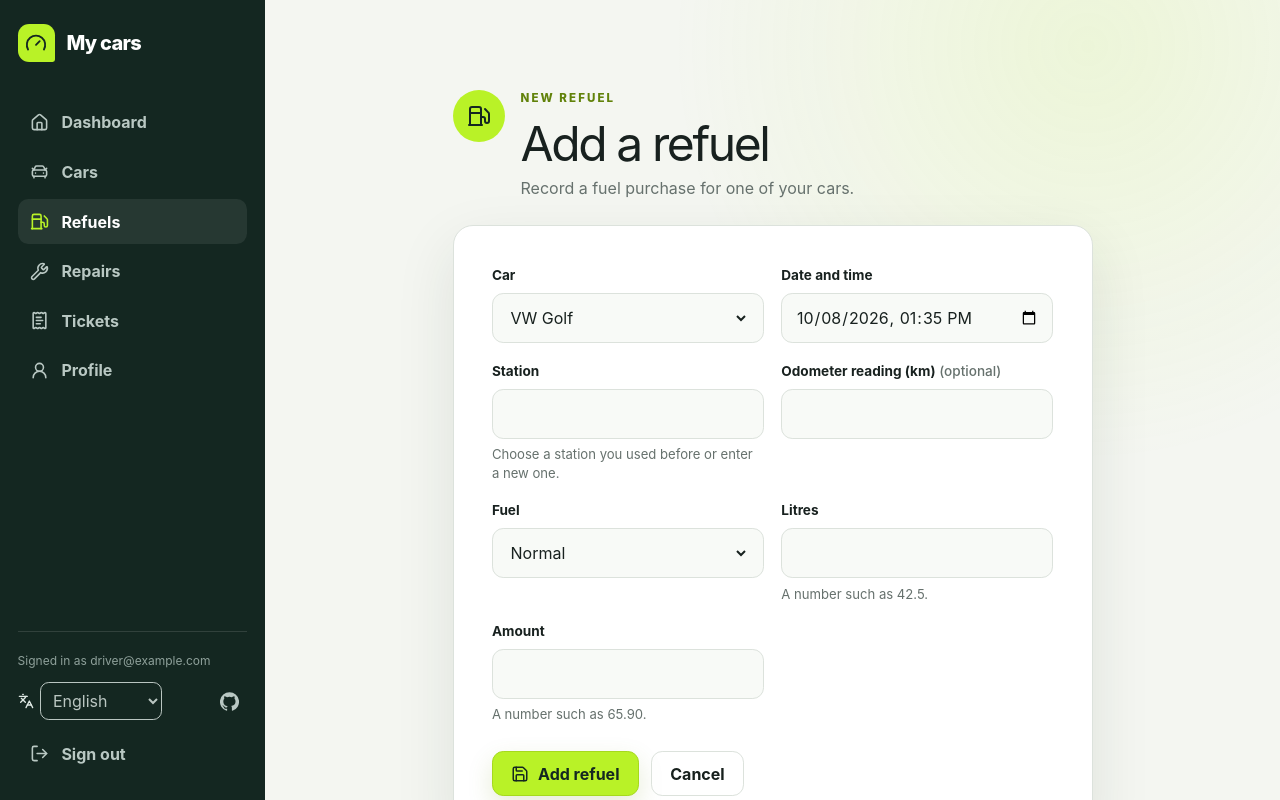
it: refuels › creates a refuel and returns to the list
Select "VW Golf" in the dropdown labelled "Car" at (628, 318), box [506,294,749,342]
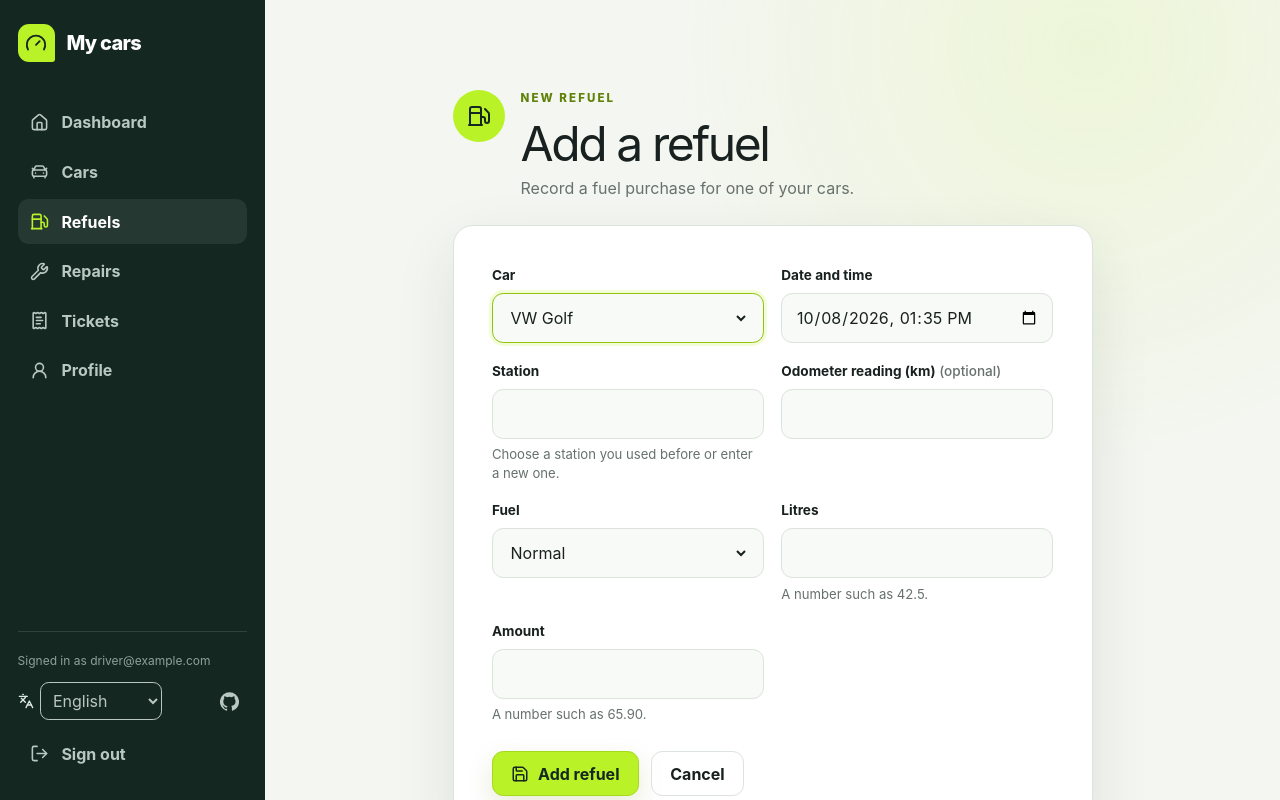
Type "Fuel" into the field labelled "Station".
click(628, 414); type("Fuel")  # box [506,390,749,438]
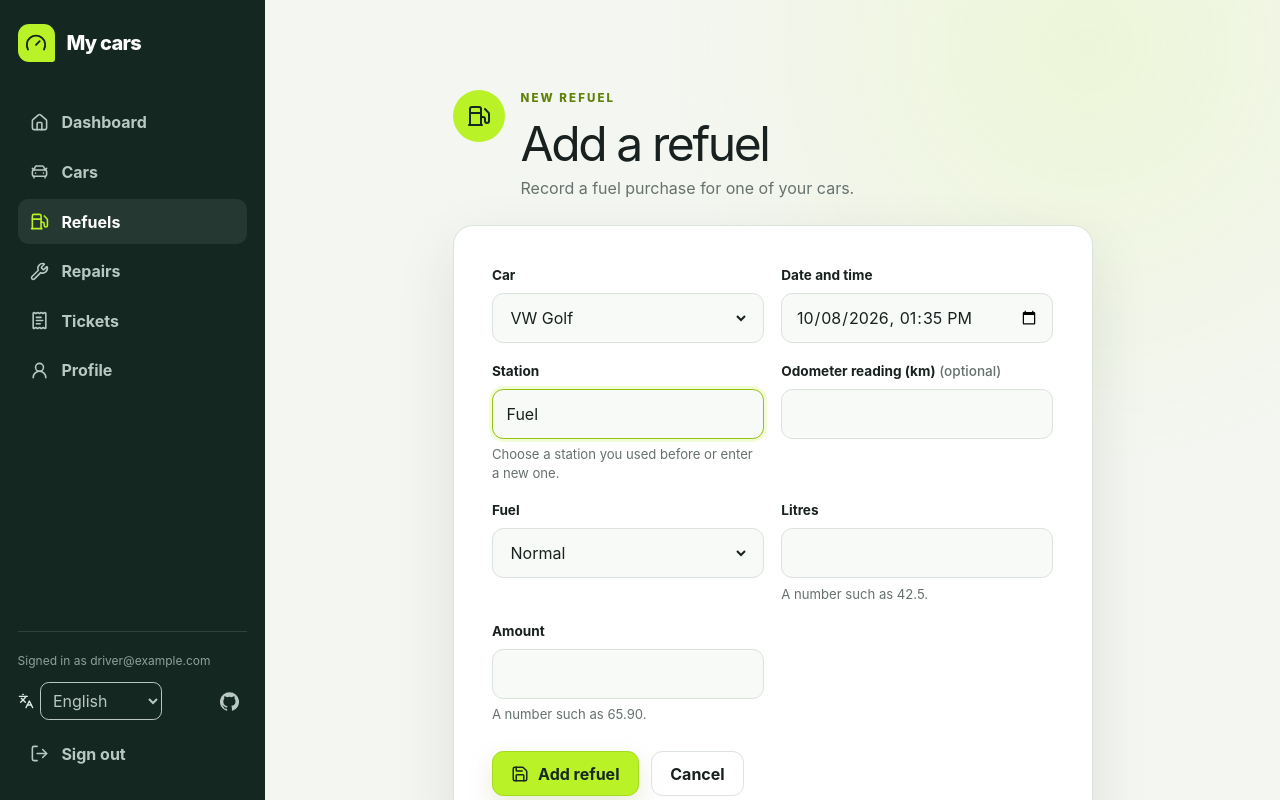
Type "40" into the field labelled "Litres".
click(917, 553); type("40")  # box [796,529,1038,577]
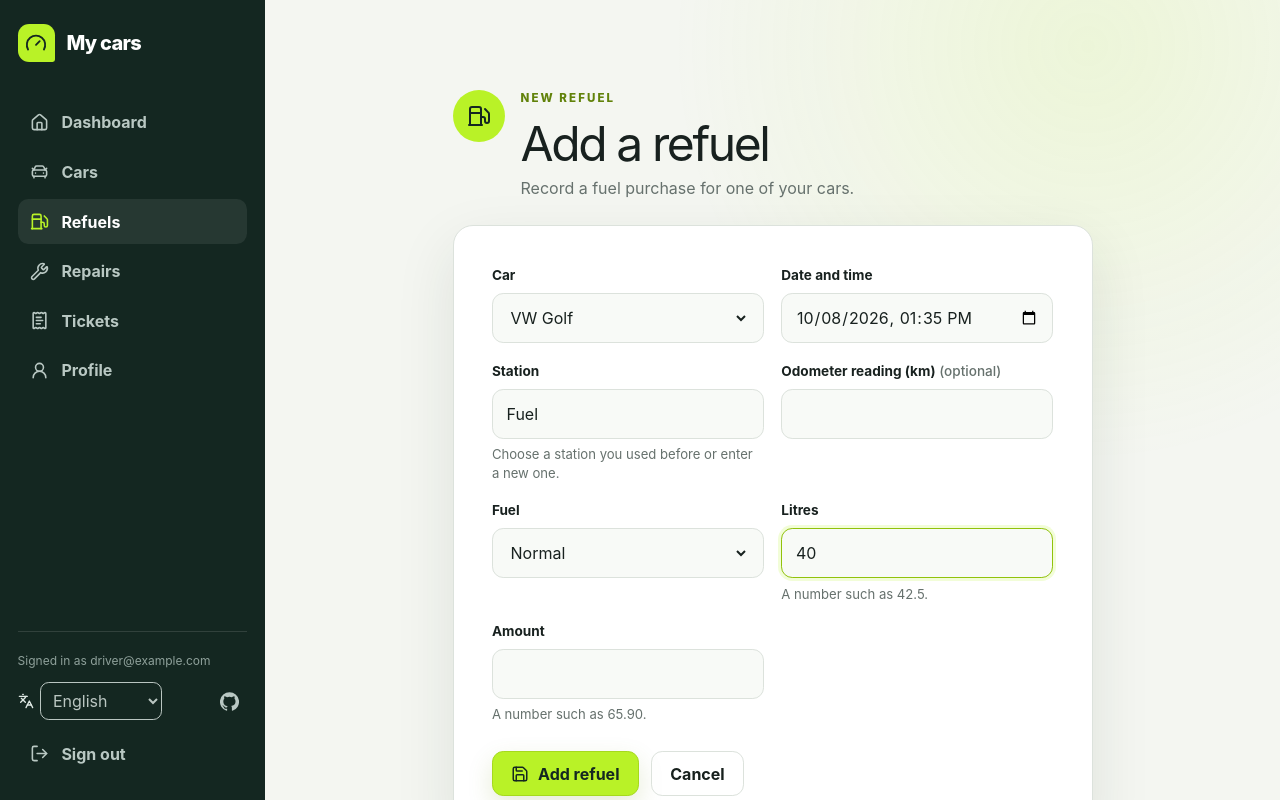
Type "60" into the field labelled "Amount".
click(628, 674); type("60")  # box [506,650,749,698]
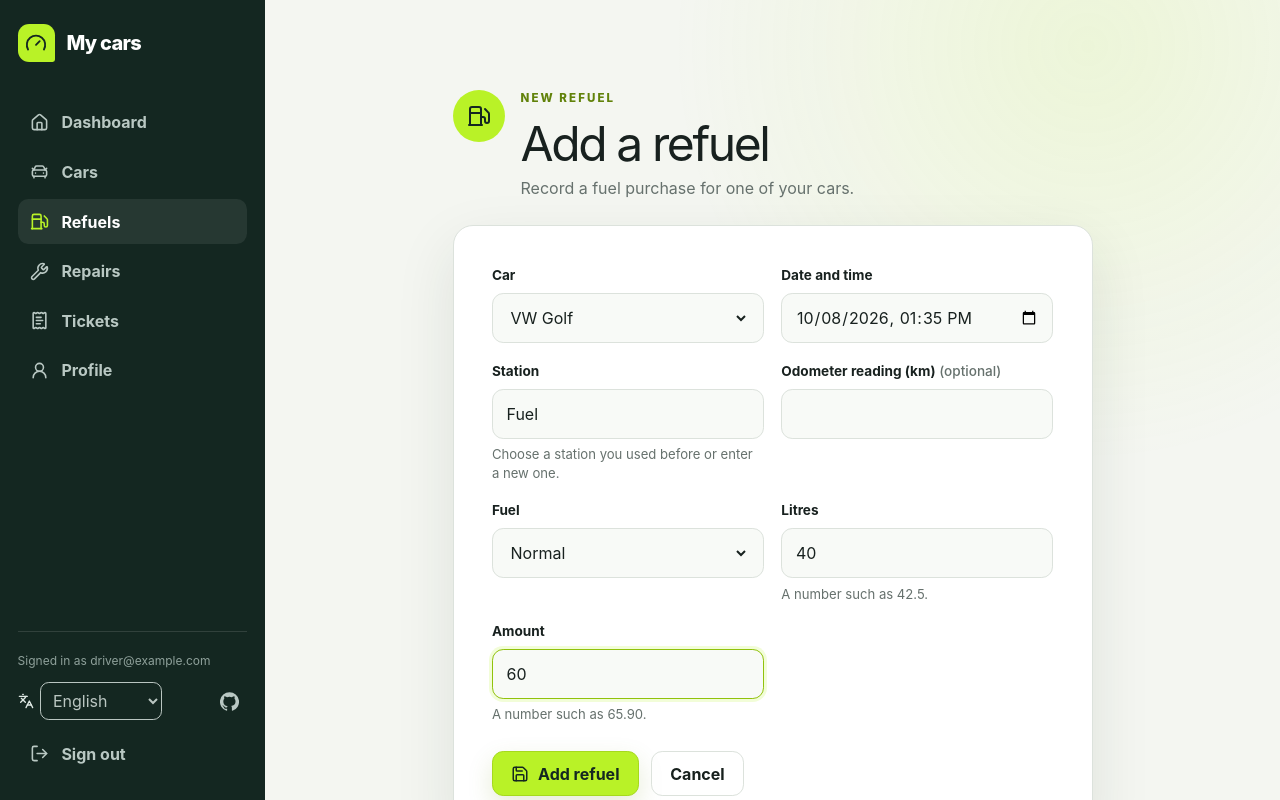
Click the button "Add refuel".
click(565, 774)  # box [492,751,639,796]
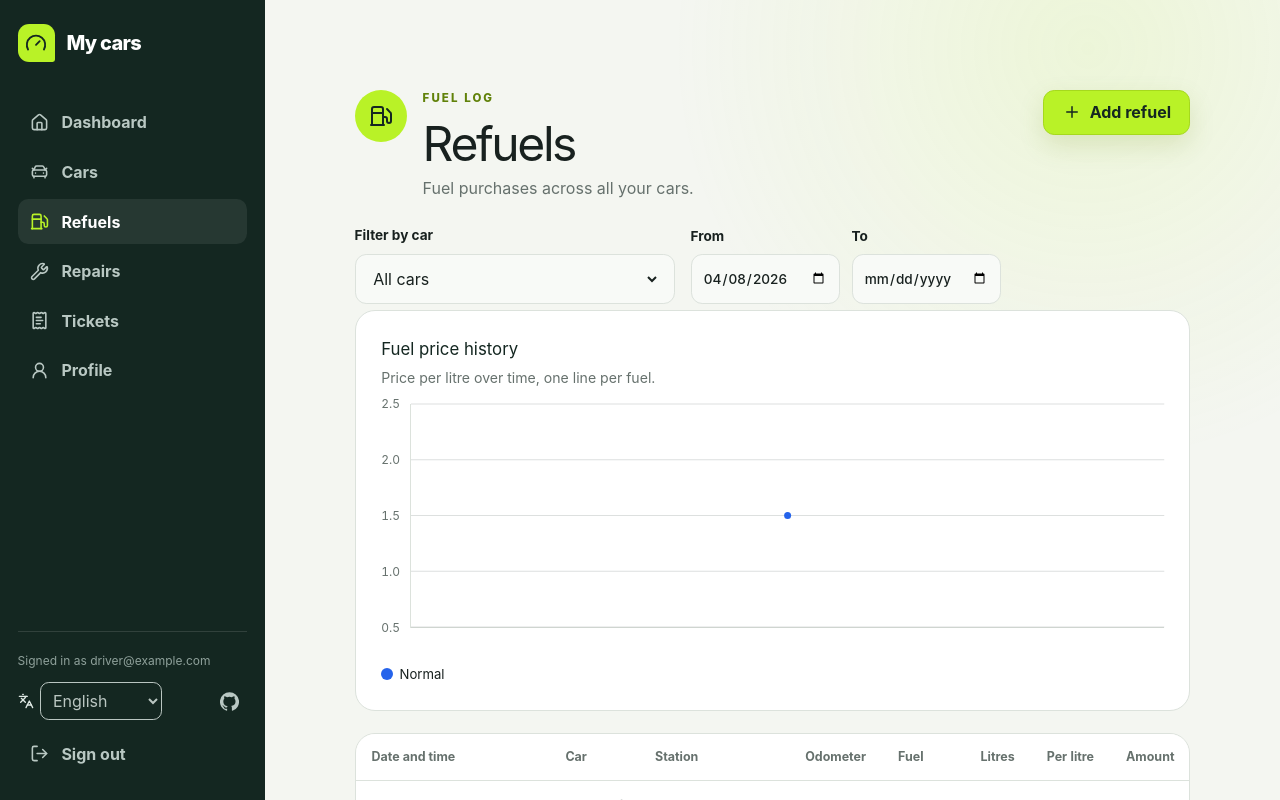
Expected: the heading "Refuels" is shown, [423,114,575,173]
